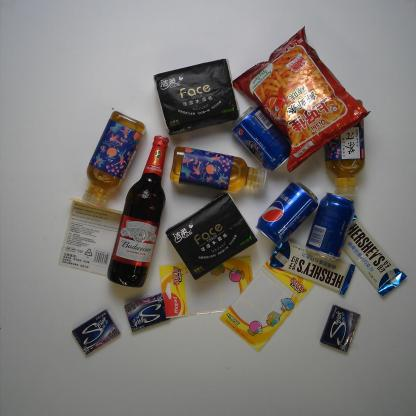Alcohol: (105, 134, 170, 288)
Chocolate: (343, 215, 409, 298), (271, 240, 356, 296)
Drink: (81, 108, 146, 210), (168, 146, 269, 194), (254, 180, 319, 248), (324, 100, 368, 198), (230, 106, 291, 174), (306, 191, 356, 261)
Gum: (70, 308, 122, 356), (318, 304, 361, 356), (123, 291, 171, 334)
Puffed Food: (233, 21, 371, 174)
Stationery: (218, 255, 315, 354), (156, 255, 253, 317), (57, 194, 123, 276)
Tissue: (164, 192, 260, 282), (150, 55, 242, 138)
